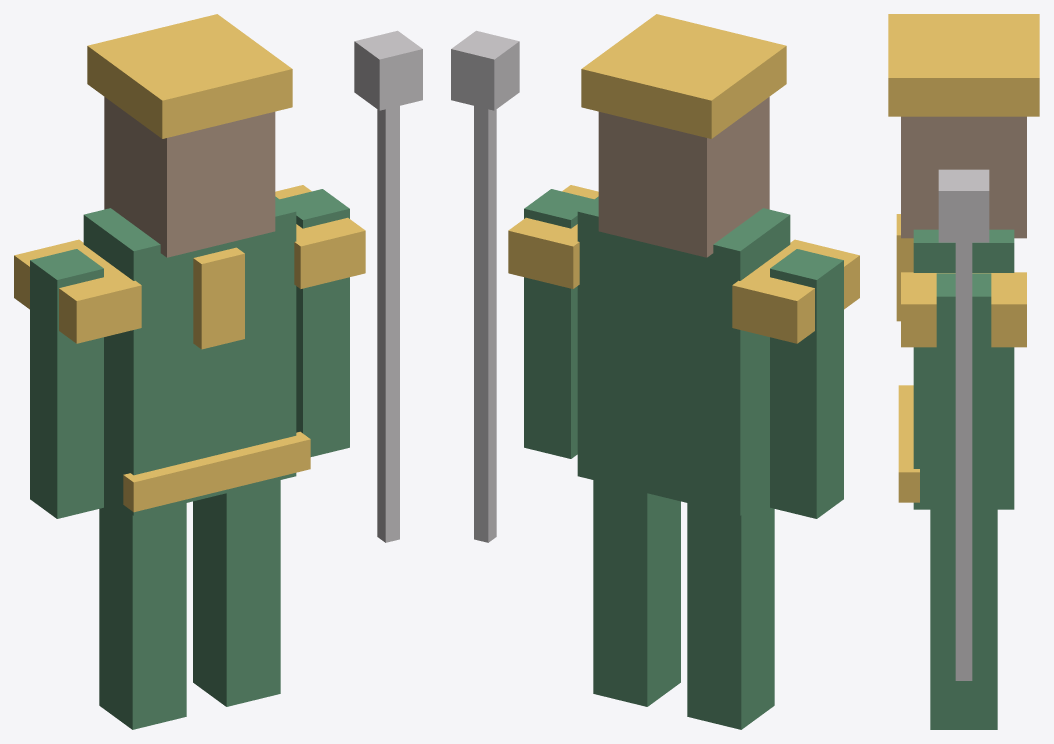
The model's file is 15_bryn_ashvein_smith_under_trainers.glb.
3 renders of one model, left to right at view 1: azimuth 30°, elevation 25°; view 2: azimuth 150°, elevation 25°; view 3: azimuth 270°, elevation 25°, orthographic.
Visible parts, largest first — view 1: Bryn Ashvein, Smith under Trainer's; view 2: Bryn Ashvein, Smith under Trainer's; view 3: Bryn Ashvein, Smith under Trainer's.
Boxes of the visible parts, box(x1,y1,x2,y2) form: Bryn Ashvein, Smith under Trainer's: box(14, 14, 422, 729); Bryn Ashvein, Smith under Trainer's: box(451, 14, 859, 729); Bryn Ashvein, Smith under Trainer's: box(888, 14, 1039, 729).
Size of the model in its own units: 1.02 by 1.71 by 0.3622.
